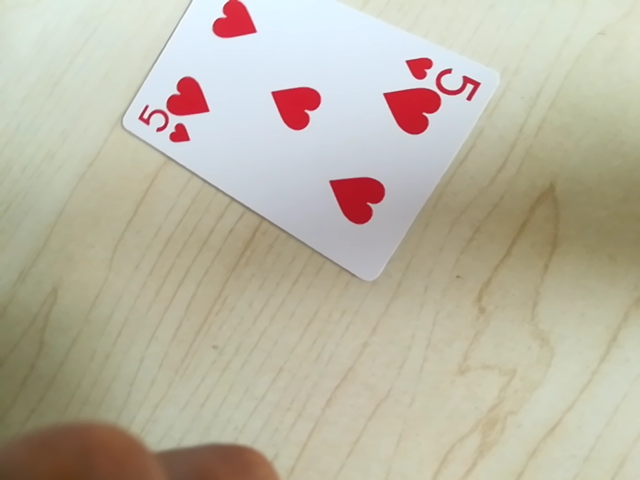hx 5: (402, 55, 485, 99), (133, 109, 200, 149)
